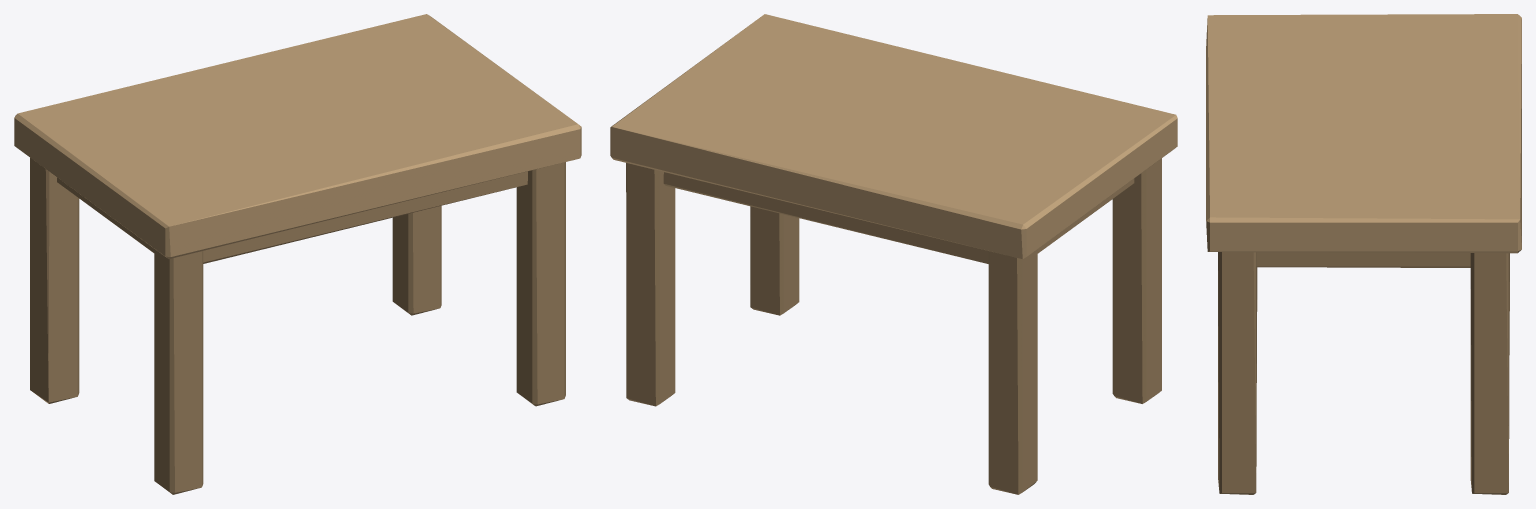
File: dgn_table.glb
3 views of the same model, side by side, from view 1: azimuth 30°, elevation 25°; view 2: azimuth 150°, elevation 25°; view 3: azimuth 270°, elevation 25° (orthographic).
Visible parts, largest first — view 1: dgn_table; view 2: dgn_table; view 3: dgn_table.
Part boxes in pixels (left/top/right/bottom): dgn_table: left=14, top=14, right=581, bottom=494; dgn_table: left=610, top=14, right=1177, bottom=494; dgn_table: left=1206, top=14, right=1521, bottom=494.
Bounding box in the file's own units: 1.24 × 0.79 × 0.8.
